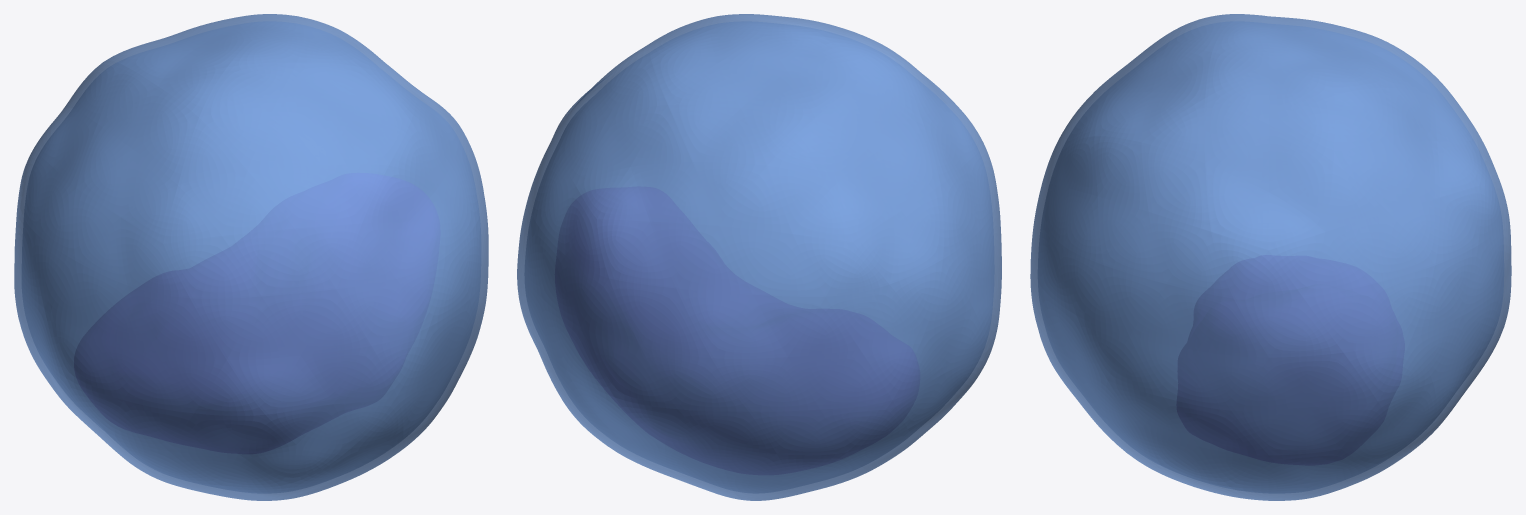
Rendered from monocyte.fbx.
3 renders of one model, left to right at view 1: azimuth 30°, elevation 25°; view 2: azimuth 150°, elevation 25°; view 3: azimuth 270°, elevation 25°, orthographic.
Visible parts, largest first — view 1: Icosphere; view 2: Icosphere; view 3: Icosphere.
Part boxes in pixels (left/top/right/bottom): Icosphere: left=14, top=14, right=488, bottom=500; Icosphere: left=517, top=14, right=1001, bottom=500; Icosphere: left=1030, top=14, right=1511, bottom=500.
Size of the model in its own units: 595 by 603 by 599.
